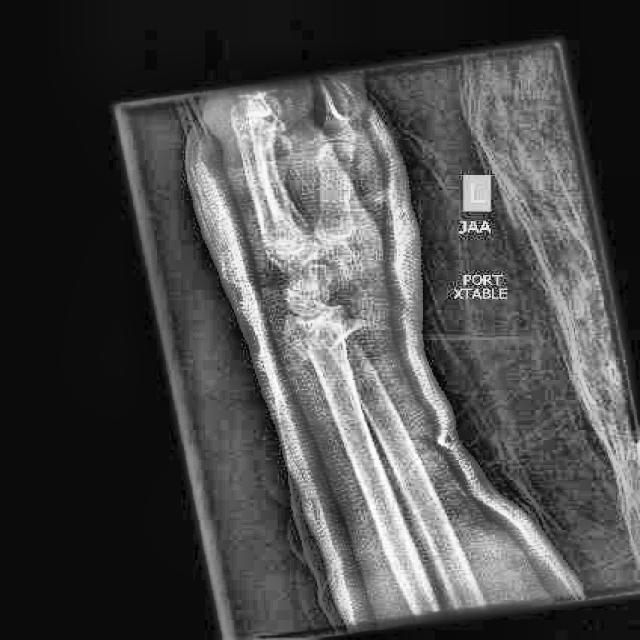wrist positive: (274, 312, 375, 378)
